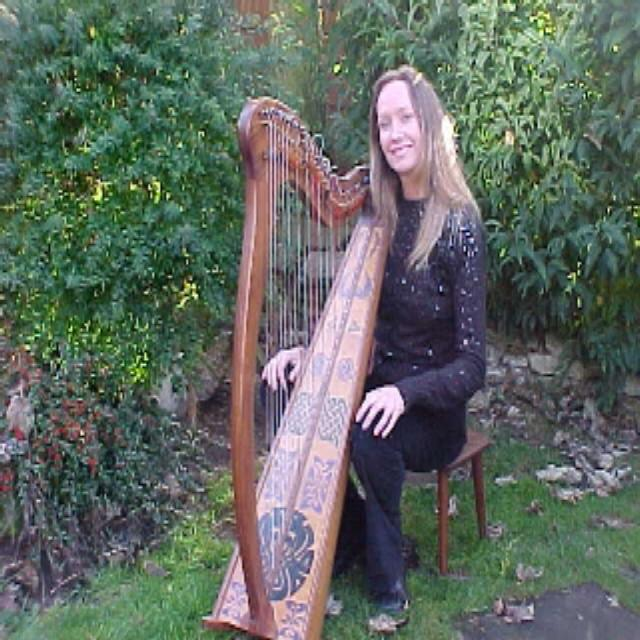harp: (198, 94, 400, 639)
